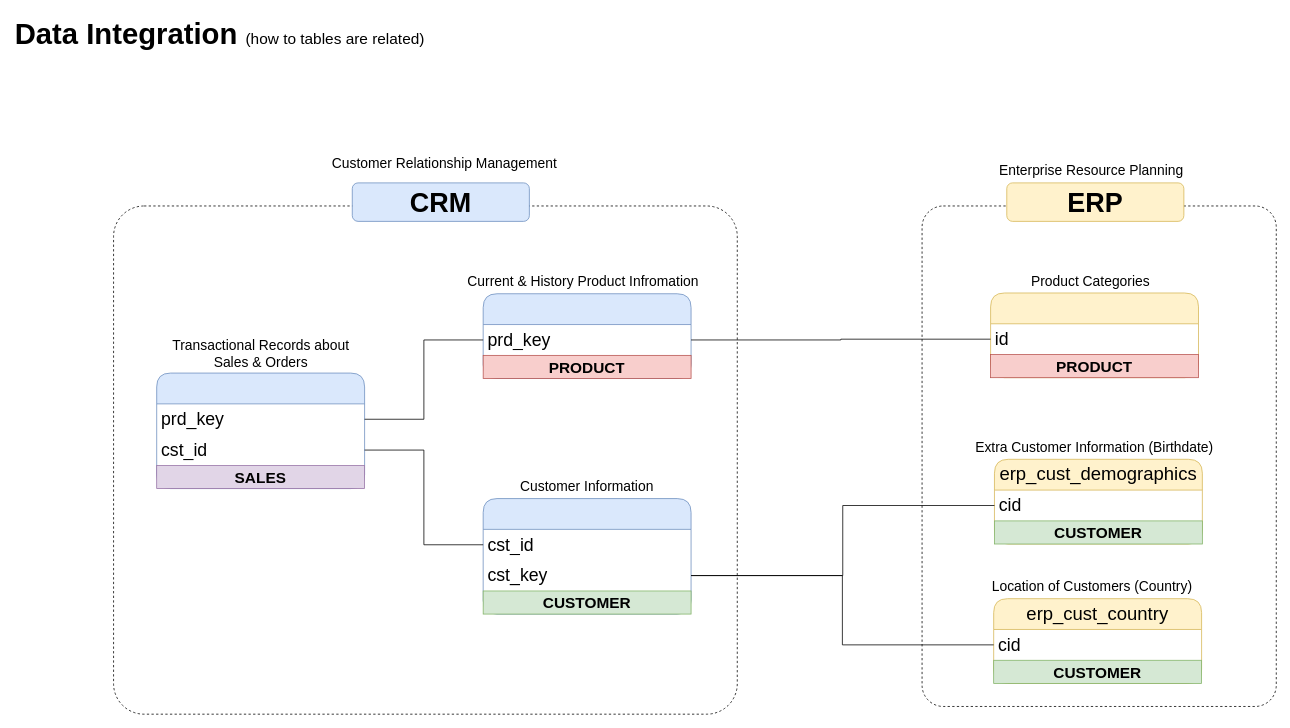
Image size: 1290x728. Some labels were removed from this diagram. Here are the shapes that lost their labels. From the top down, the box of each, then its label:
(482, 293, 691, 378): crm_prd_info
(990, 292, 1199, 378): erp_prod_category
(156, 372, 365, 489): crm_sales_details
(482, 498, 691, 614): crm_cust_info
